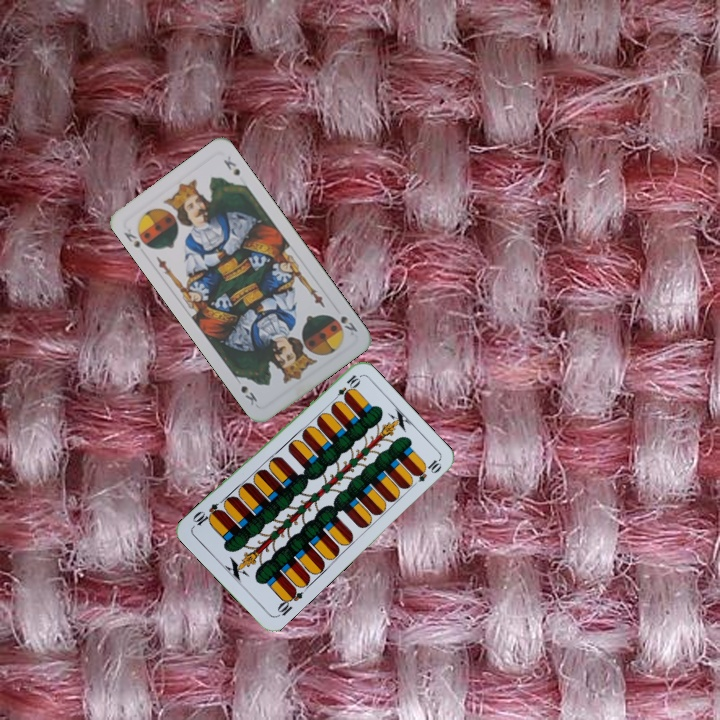E10: (273, 584, 305, 620), (329, 371, 362, 405)
SK: (336, 312, 360, 338), (120, 225, 143, 251)
